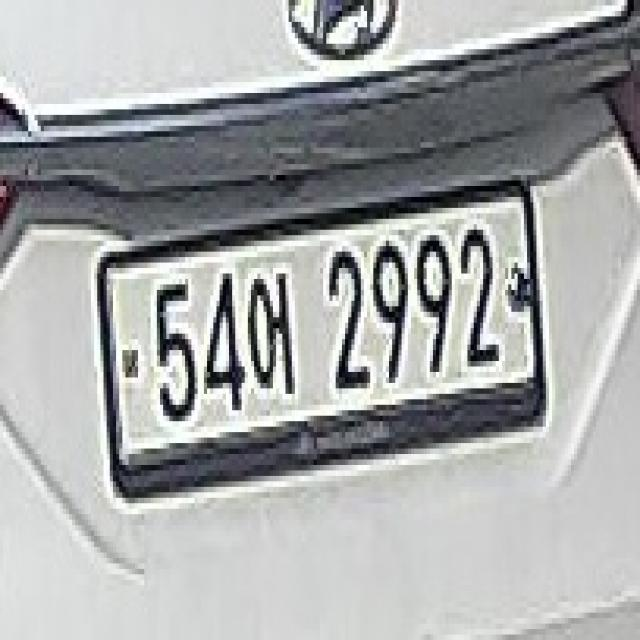2: (455, 197, 508, 383), (320, 224, 373, 405)
4: (191, 268, 248, 416)
5: (141, 268, 201, 427)
9: (88, 175, 546, 520), (411, 197, 458, 394), (367, 202, 411, 383)
eo: (248, 262, 301, 404)
